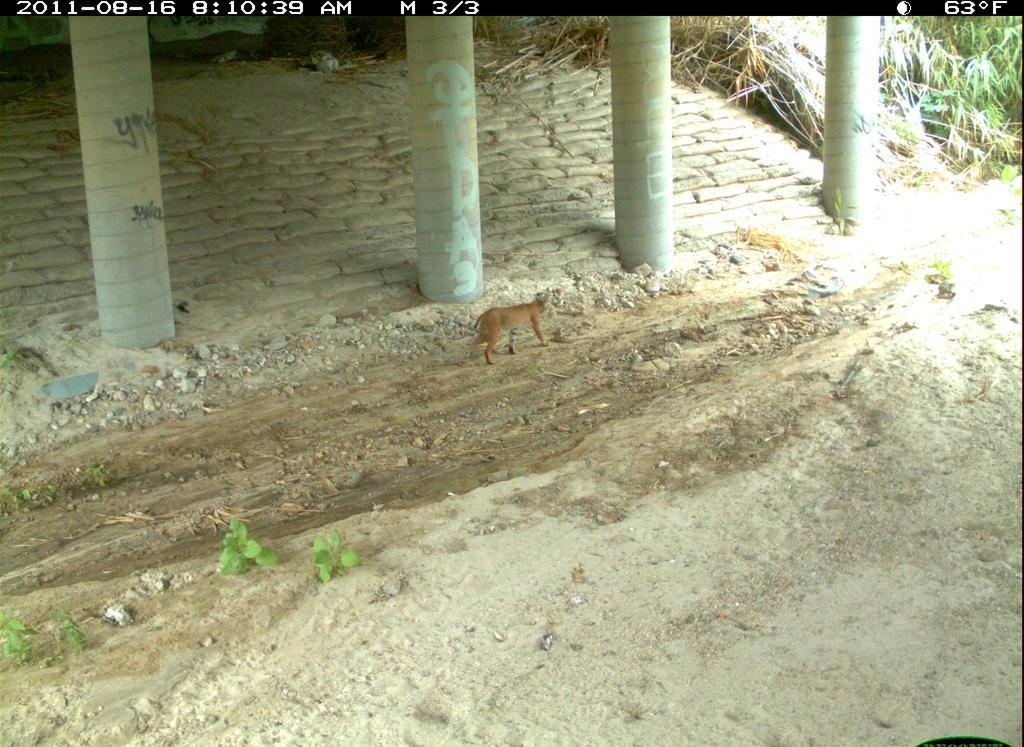bobcat: (927, 574, 1024, 741)
